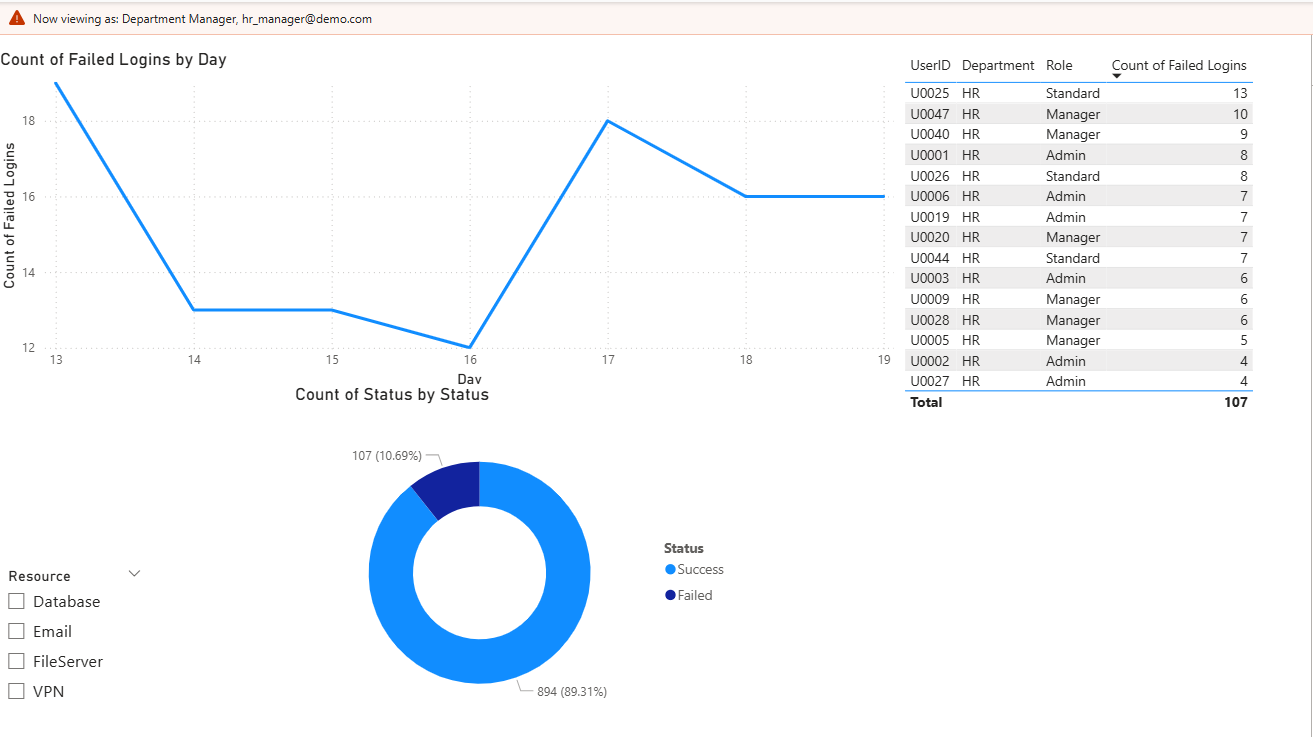

Layout of this report page (visuals, bound fields, positions):
{"tool":"powerbi","page":{"name":"Threat Monitoring","canvas":[1280,720],"ordinal":1},"visuals":[{"type":"lineChart","fields":{"Category":["security_logs.Timestamp.Variation.Date Hierarchy.Day"],"Y":["CountNonNull(security_logs.Status)"]},"box":[0,45.7,879.3,333.6],"z":0},{"type":"donutChart","fields":{"Category":["security_logs.Status"],"Y":["CountNonNull(security_logs.Status)"]},"box":[286.9,371.6,436.7,348.2],"z":1000},{"type":"tableEx","fields":{"Values":["security_logs.UserID","security_logs.Department","security_logs.Role","security_logs.Status"]},"box":[879.3,45.7,381.3,674],"z":2000},{"type":"slicer","fields":{"Values":["security_logs.Resource"]},"box":[0,544.7,154.7,175.1],"z":3000}]}

Visuals, with their boxes in screenshot pixels (x1, y1, x2, y2), scaled from the page's 1280x720 canvas onto the 1313x737 screenshot:
lineChart - security_logs.Timestamp.Variation.Date Hierarchy.Day x CountNonNull(security_logs.Status): <bbox>0, 47, 902, 388</bbox>
donutChart - security_logs.Status x CountNonNull(security_logs.Status): <bbox>294, 380, 742, 736</bbox>
tableEx - security_logs.UserID x security_logs.Department: <bbox>902, 47, 1293, 736</bbox>
slicer - security_logs.Resource: <bbox>0, 558, 159, 736</bbox>
